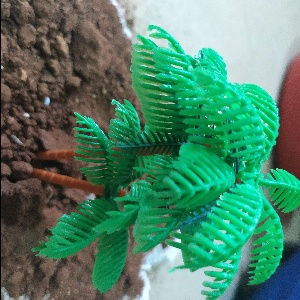plant: (42, 29, 300, 292)
